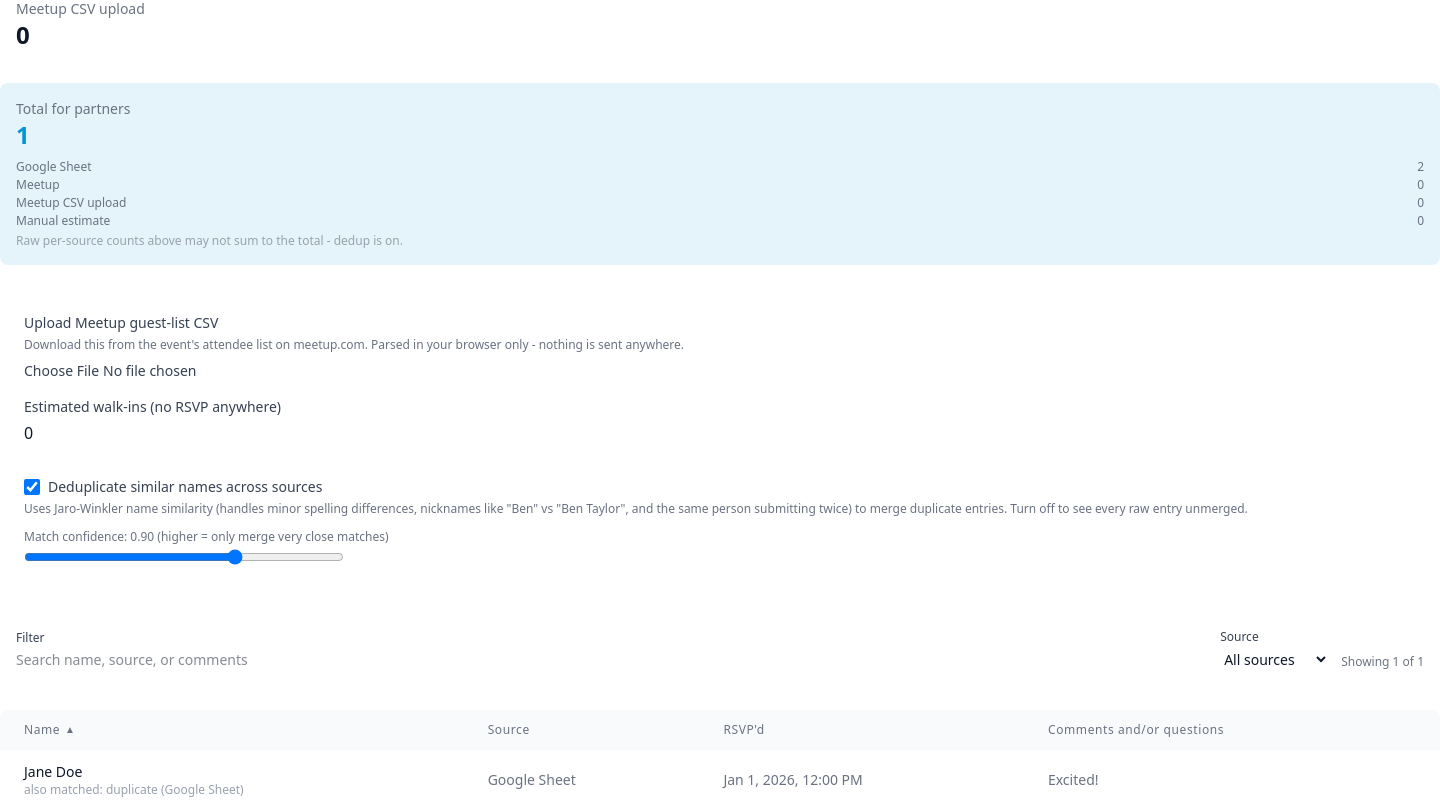
Test: RsvpReportPage - dedupe and table controls › disabling dedup shows every raw entry unmerged
(page scrolled)
Click the checkbox labelled "Deduplicate similar names across sources". click: (32, 487)
box: x1=24 y1=479 x2=40 y2=495
(page scrolled)
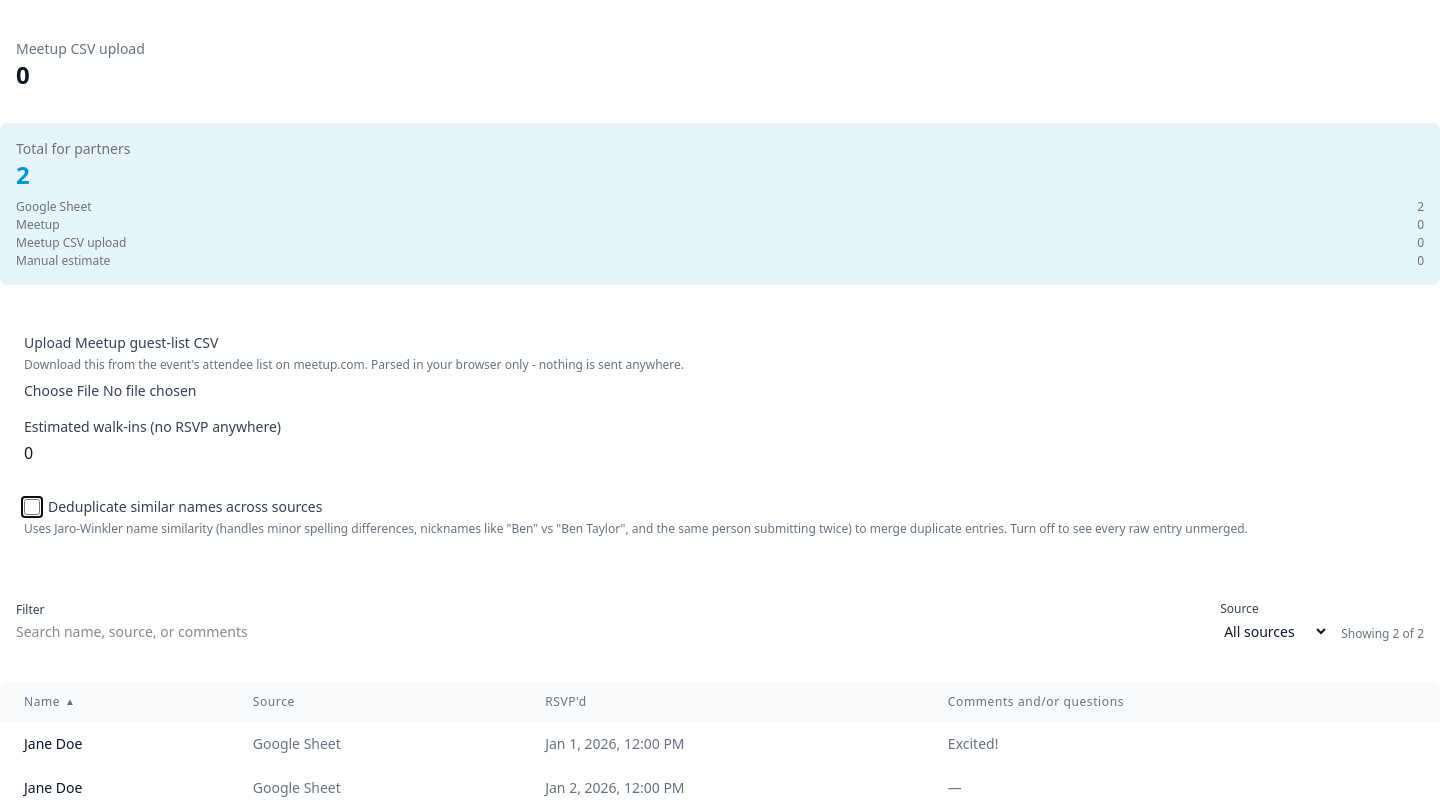
Expected: the text "Showing 2 of 2" is shown, x1=1341 y1=626 x2=1424 y2=642
Expected: the label labelled "Match confidence" is gone
